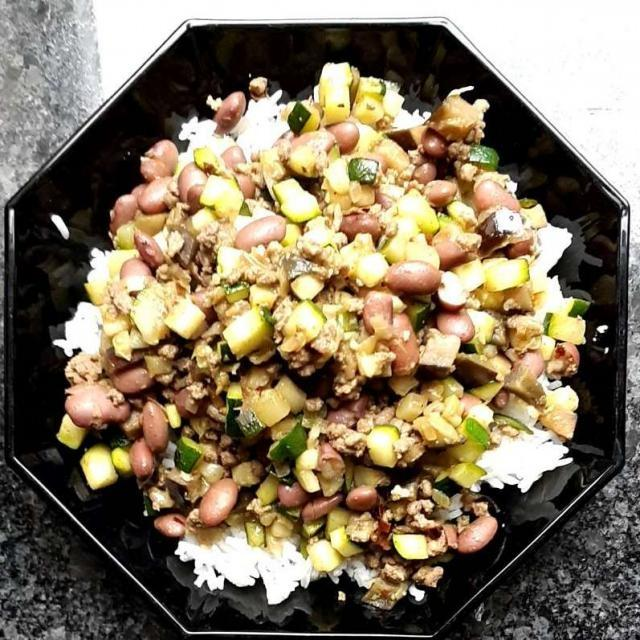rice: (163, 441, 569, 593)
zucchini: (227, 68, 587, 457)
